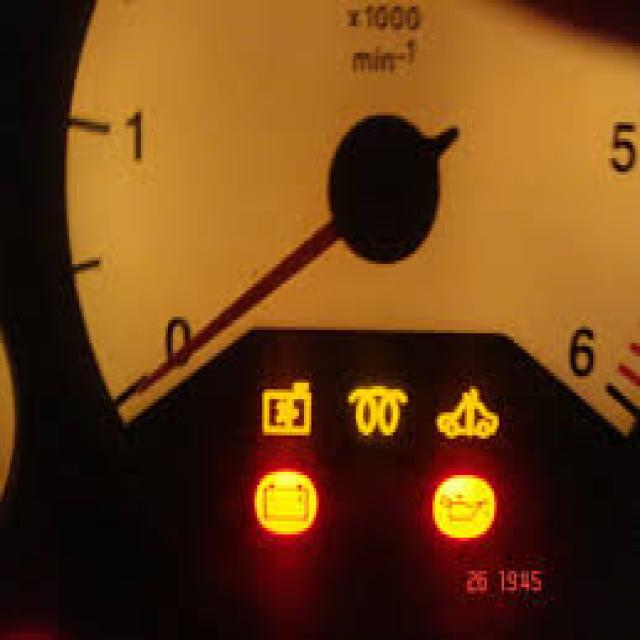kontrolka: (242, 365, 318, 449), (436, 373, 504, 443), (344, 379, 412, 443), (259, 472, 317, 535), (433, 483, 494, 529)
